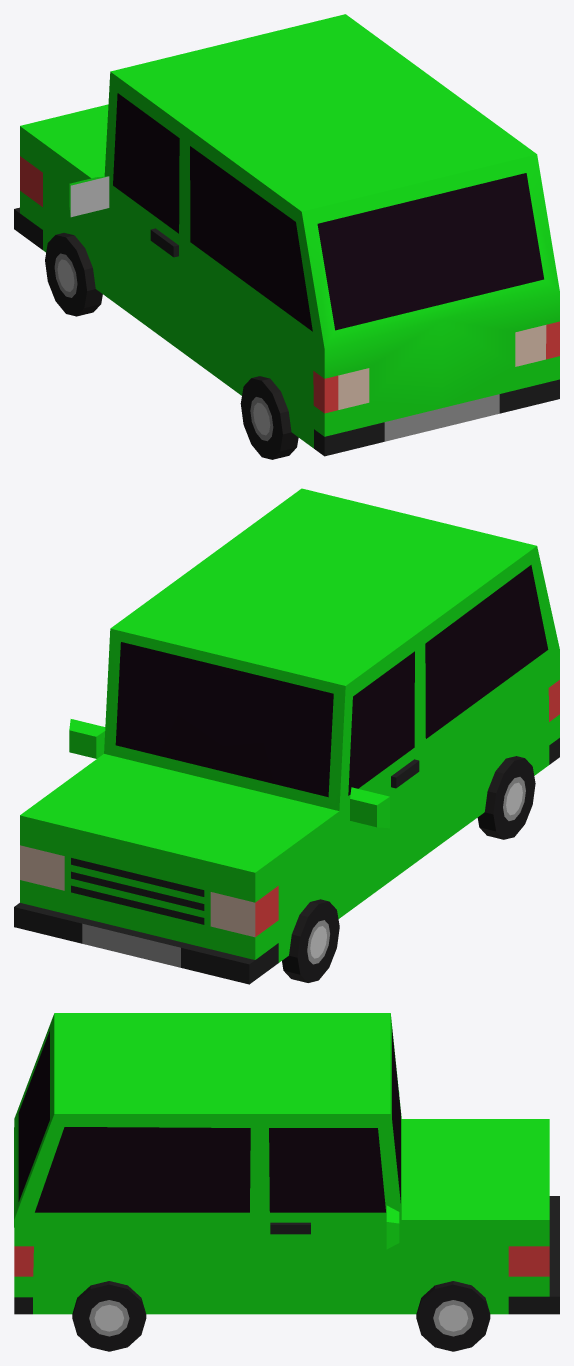
The model's file is car.fbx.
The picture shows the model from 3 angles, top to bottom: view 1: azimuth 30°, elevation 25°; view 2: azimuth 150°, elevation 25°; view 3: azimuth 270°, elevation 25°; orthographic projection. The views are drawn at different scales.
Parts seen in each view (by area): view 1: car_mesh; view 2: car_mesh; view 3: car_mesh.
Boxes of the visible parts, <box> form: car_mesh: <box>14,14,559,459</box>; car_mesh: <box>14,488,559,984</box>; car_mesh: <box>14,1013,559,1351</box>.
Size of the model in its own units: 0.3159 by 0.2518 by 0.5324.
